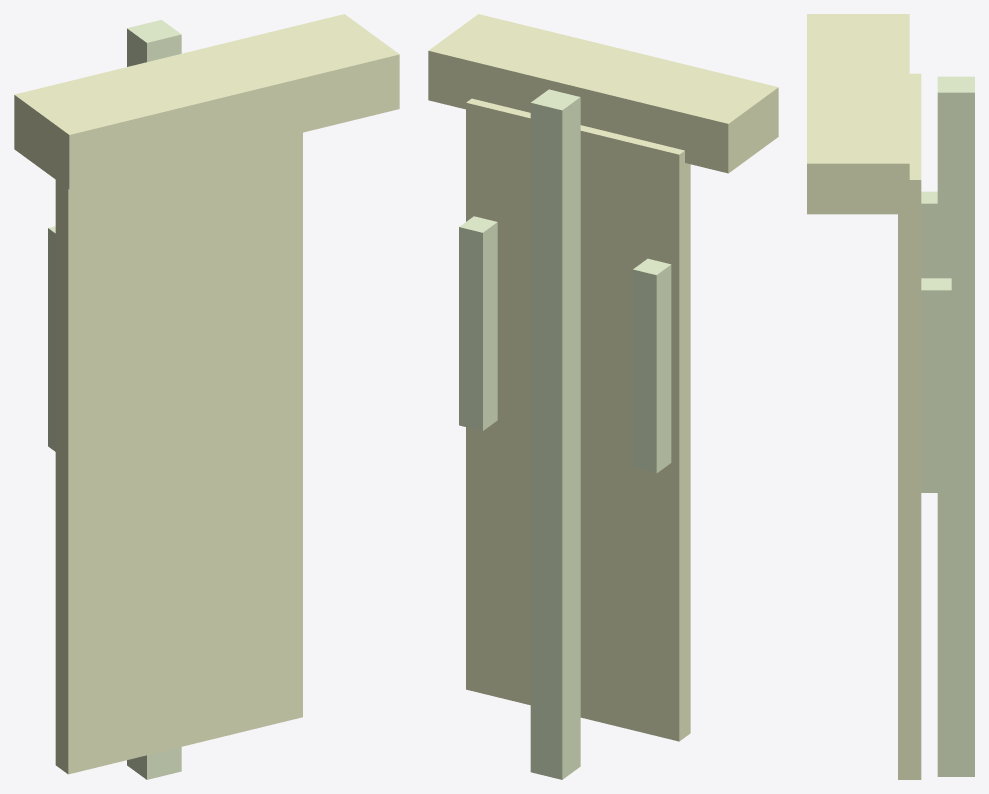
The model's file is furniture_signal_backplate_vertical.glb.
3 views of the same model, side by side, from view 1: azimuth 30°, elevation 25°; view 2: azimuth 150°, elevation 25°; view 3: azimuth 270°, elevation 25° (orthographic). The views are drawn at different scales.
Visible parts, largest first — view 1: plate, hood, mount_strap, brace_left; view 2: plate, mount_strap, hood, brace_right, brace_left; view 3: mount_strap, hood, plate, brace_right, brace_left.
Part boxes in pixels (x1,y1,x2,y2): plate: (55,132,302,774); hood: (14,14,399,189); mount_strap: (127,20,181,779); brace_left: (48,226,55,451); plate: (466,98,690,741); mount_strap: (530,89,580,779); hood: (428,14,778,173); brace_right: (459,216,497,430); brace_left: (633,258,671,473); mount_strap: (937,76,974,776); hood: (807,14,909,214); plate: (898,73,921,779); brace_right: (921,278,951,492); brace_left: (921,191,937,278).
Size of the model in its own units: 0.76 by 1.62 by 0.36.
